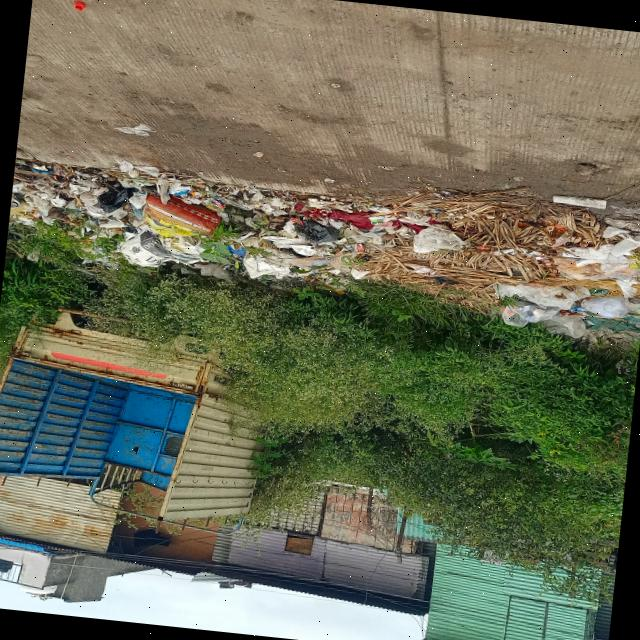garbage: (3, 143, 640, 338)
